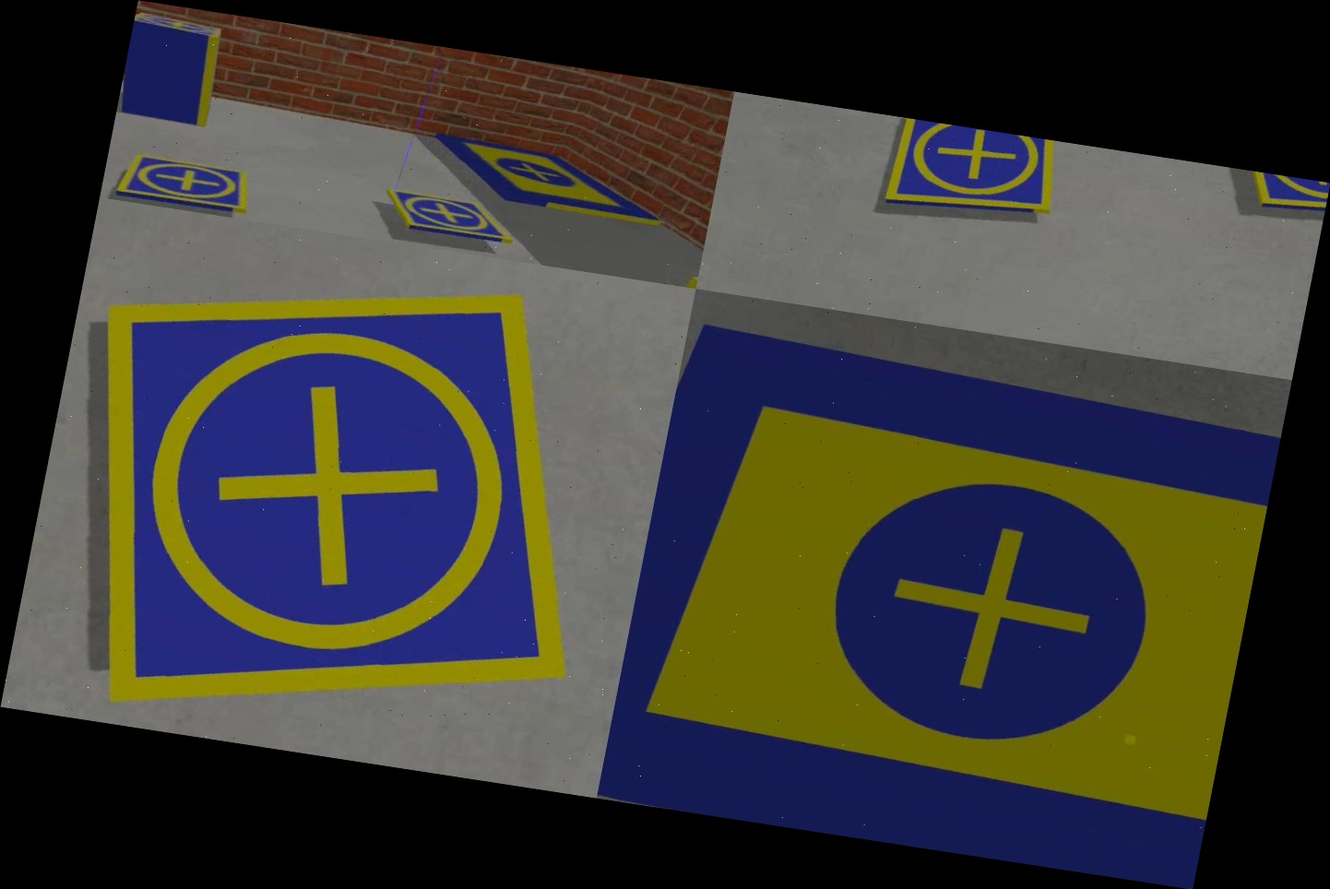large_base: (597, 294, 1289, 889), (421, 124, 680, 237)
small_base: (0, 197, 681, 795), (875, 116, 1075, 244), (113, 143, 259, 220), (377, 184, 519, 255), (1214, 166, 1329, 223), (132, 6, 229, 46)
